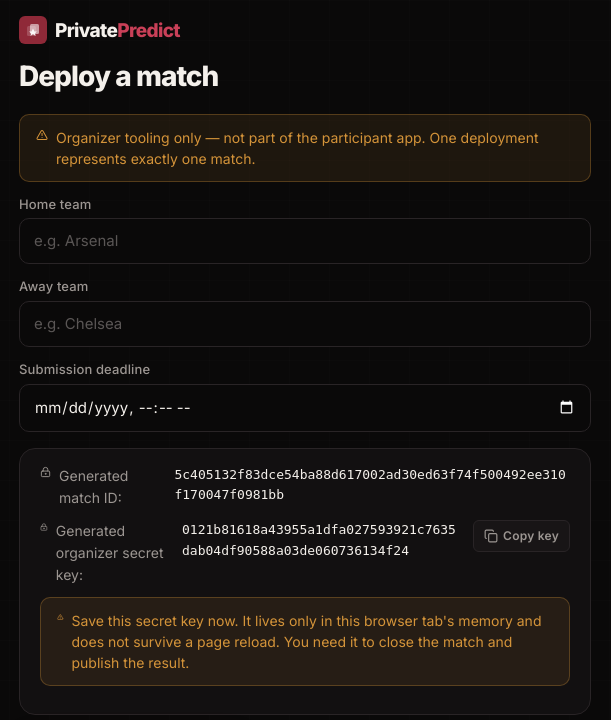
it: DeployApp › requires VITE_NETWORK_ID to be configured before attempting to connect
Type "Team A" into the field labelled "Home team". click: (305, 241)
box: [19,218,591,264]
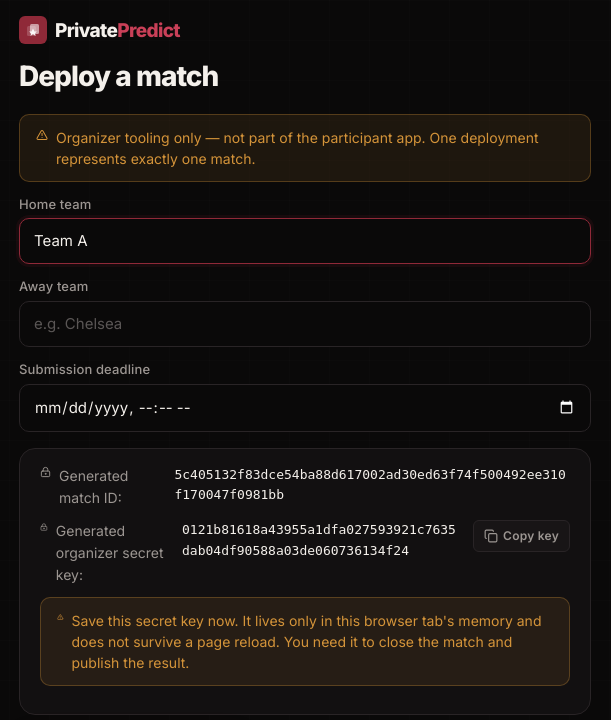
Type "Team B" into the field labelled "Away team". click: (305, 324)
box: [19,301,591,347]
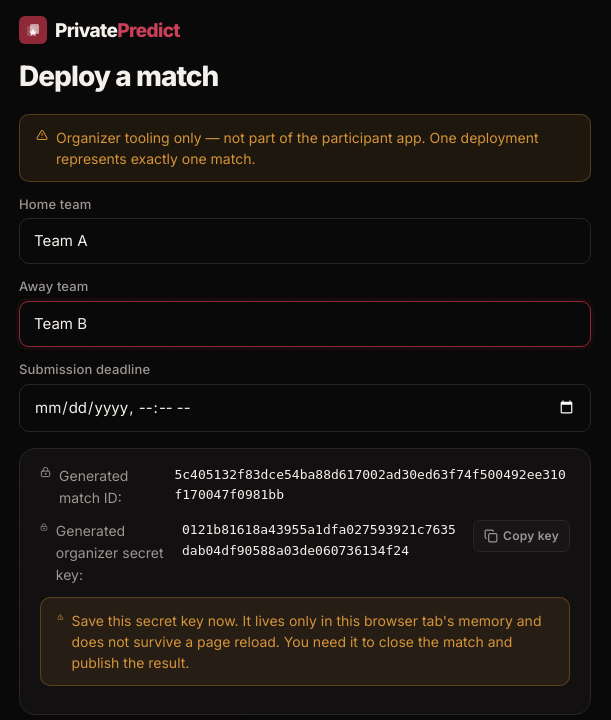
Type "2030-01-01T00:00" into the field labelled "Submission deadline". click: (305, 408)
box: [19,384,591,432]
(page scrolled)
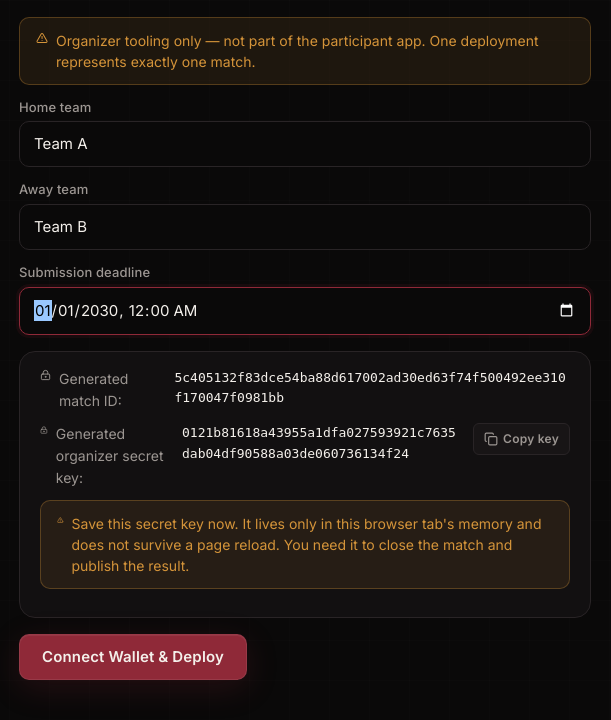
Click the button "Connect Wallet & Deploy". click: click(133, 657)
box: [19,634,247,680]
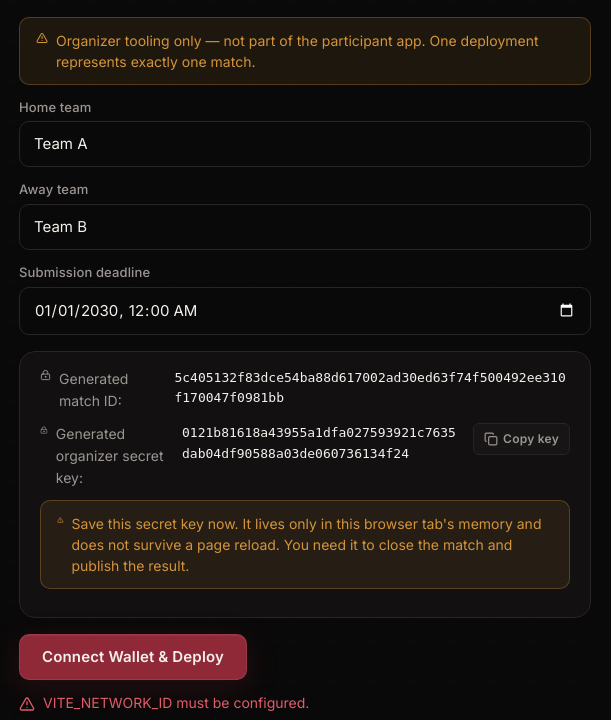
Expected: the message shows "VITE_NETWORK_ID must be configured", [43,694,309,711]
